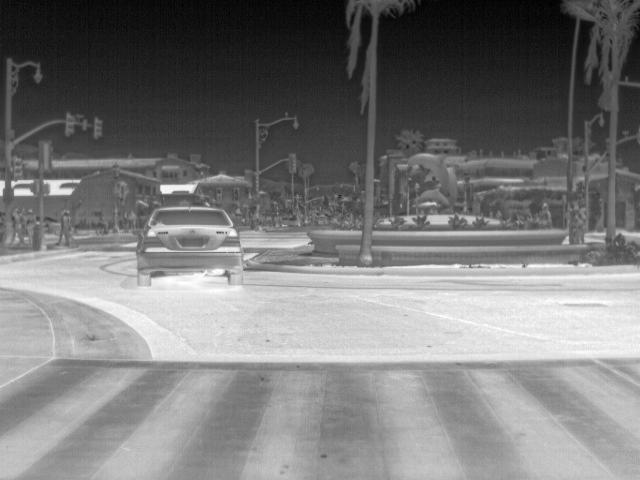car: (138, 203, 248, 289)
person: (54, 209, 76, 247), (25, 206, 39, 246), (9, 207, 21, 243), (17, 206, 29, 232)
